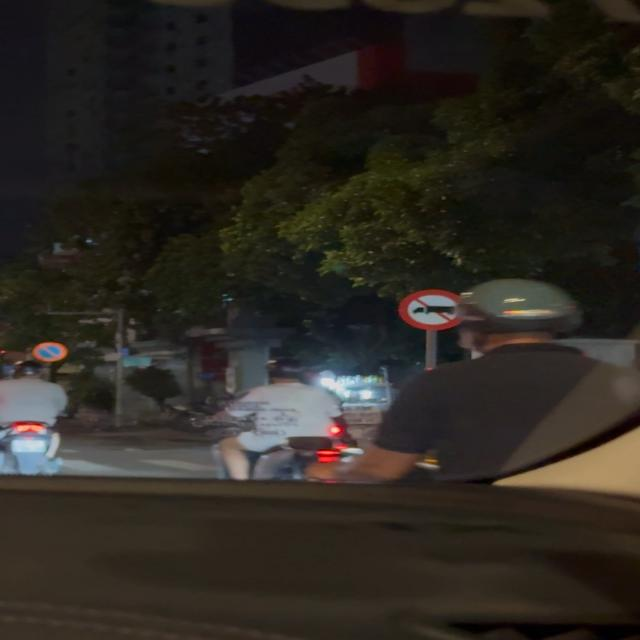Bien bao cam do xe: (32, 341, 70, 363)
Bien bao cam xe so-mi ro-mooc: (394, 286, 472, 332)
